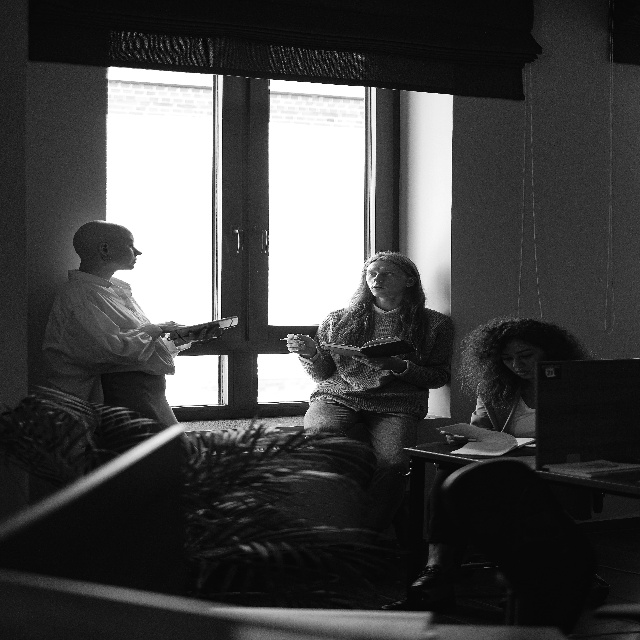Sin_guantes: (354, 352, 404, 376), (287, 332, 316, 357), (187, 327, 222, 342)
